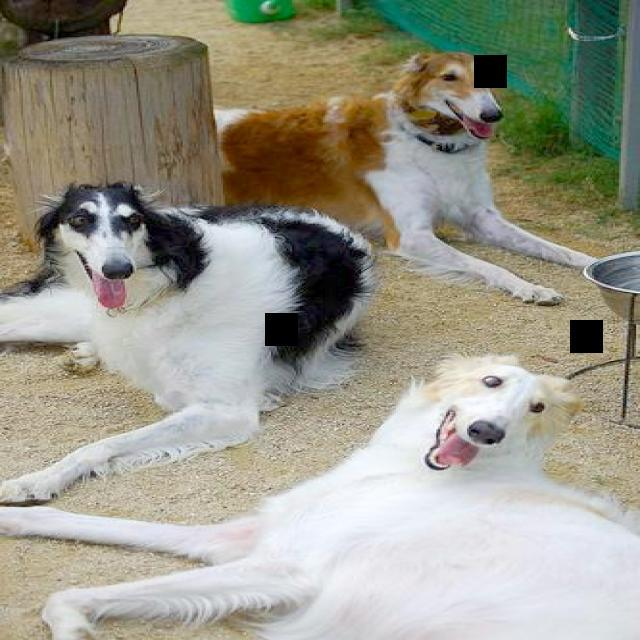adult_dog: (1, 354, 640, 640), (1, 183, 378, 500), (211, 48, 596, 309)
